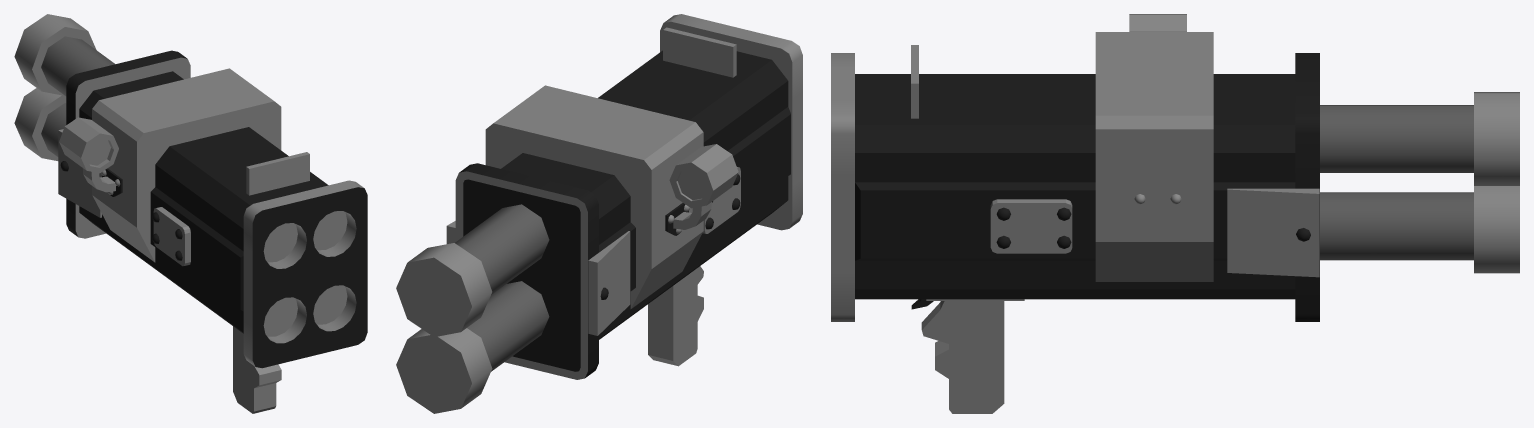
The model's file is Homing Missile.fbx.
3 renders of one model, left to right at view 1: azimuth 30°, elevation 25°; view 2: azimuth 150°, elevation 25°; view 3: azimuth 270°, elevation 25°, orthographic. The views are drawn at different scales.
Parts seen in each view (by area): view 1: Homing; view 2: Homing; view 3: Homing.
Part boxes in pixels (left/top/right/bottom): Homing: left=14, top=14, right=367, bottom=413; Homing: left=396, top=14, right=802, bottom=413; Homing: left=831, top=14, right=1519, bottom=413.
Bounding box in the file's own units: 44.06 × 57.18 × 104.
